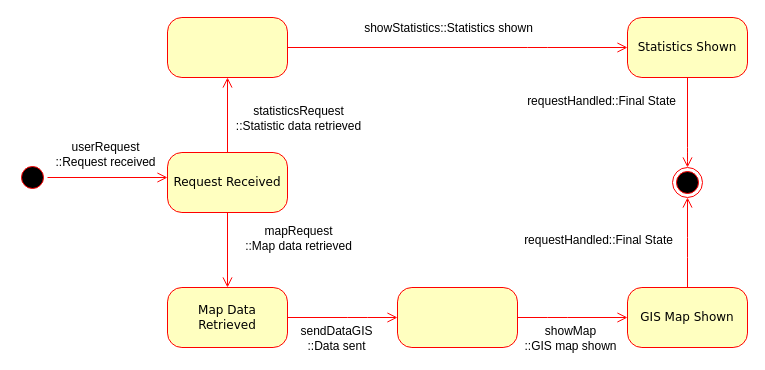
This 765x370 diagram has some shape labels left out. The shapes that lost their labels are listed below. From the top down, each one's centre as x and y in pixels, then its label:
the point at 227,47: Statistic Data Retrieved
the point at 457,317: Data sent to GIS
